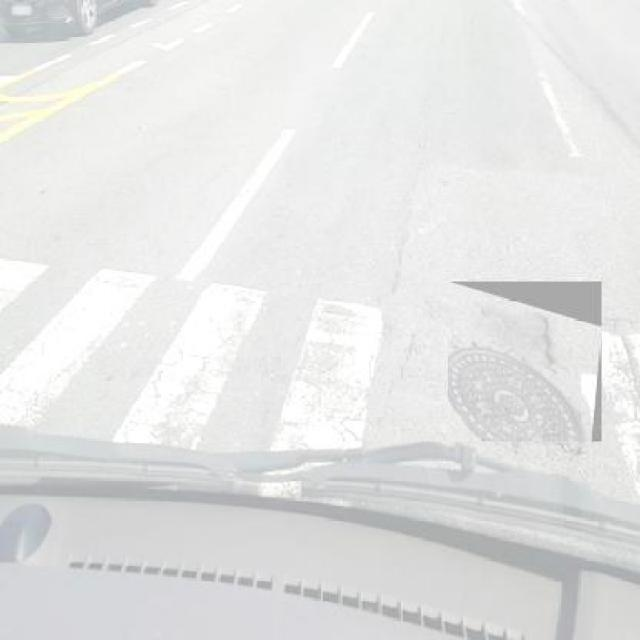Manhole: (448, 282, 602, 442)
